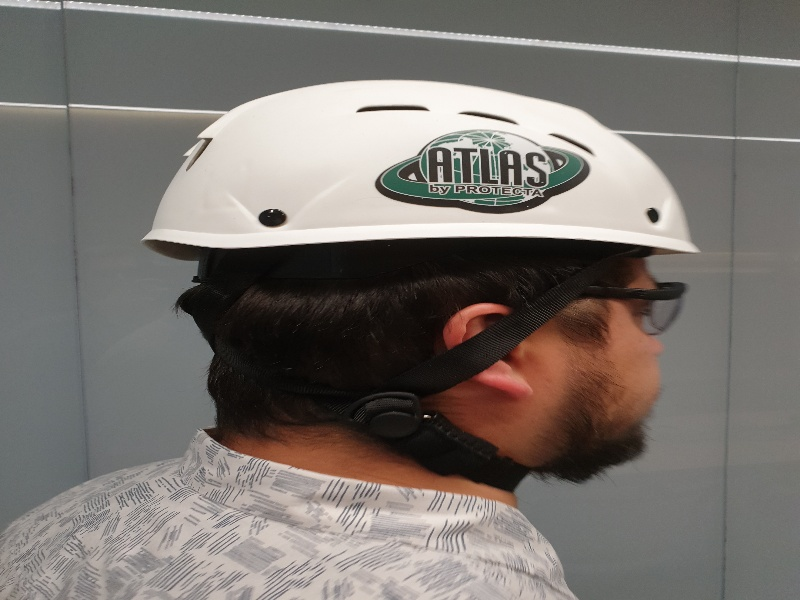Baret: (142, 78, 703, 257)
Gozluk: (561, 280, 691, 336)
